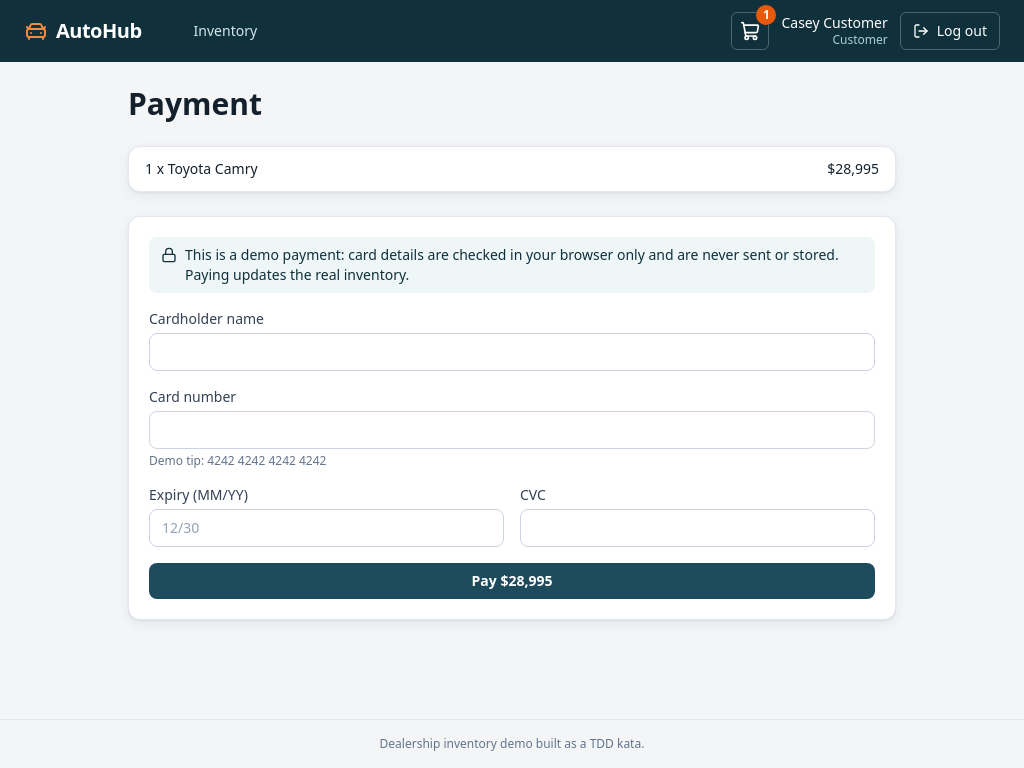
Scenario: Payment page › requires every card field
Click the button "Pay $28,995": (512, 581) x1=149 y1=563 x2=875 y2=599
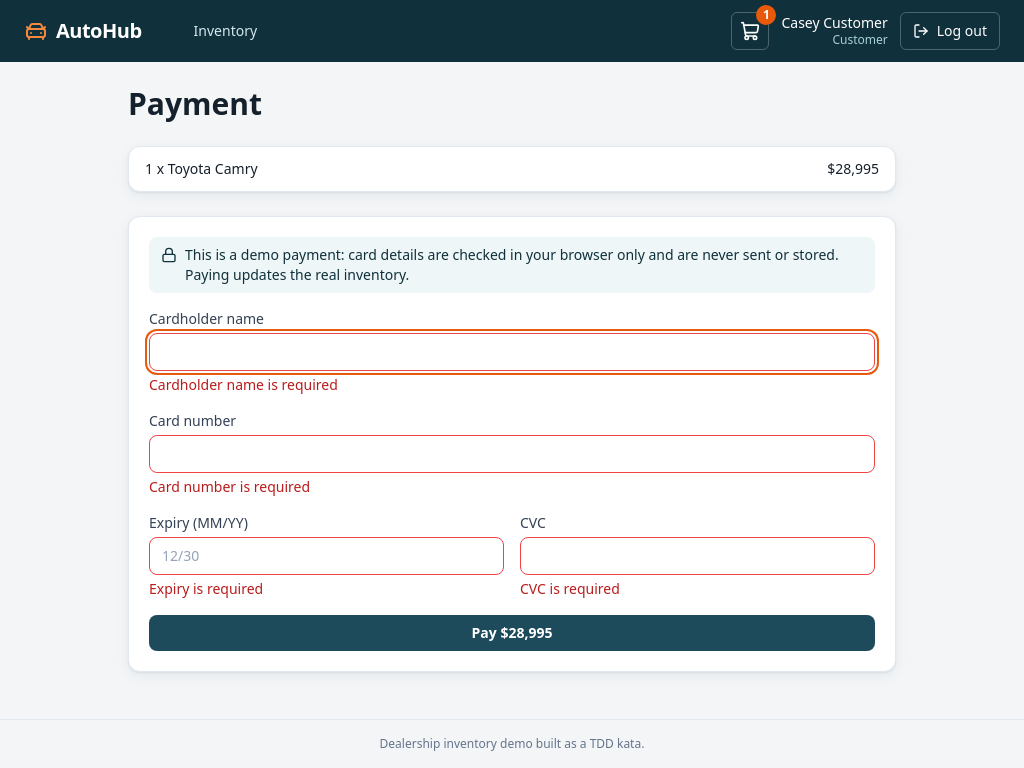
Expected: the text "Cardholder name is required" is shown, x1=149 y1=375 x2=338 y2=394
Expected: the text "Card number is required" is shown, x1=149 y1=477 x2=310 y2=496
Expected: the text "Expiry is required" is shown, x1=149 y1=579 x2=263 y2=598
